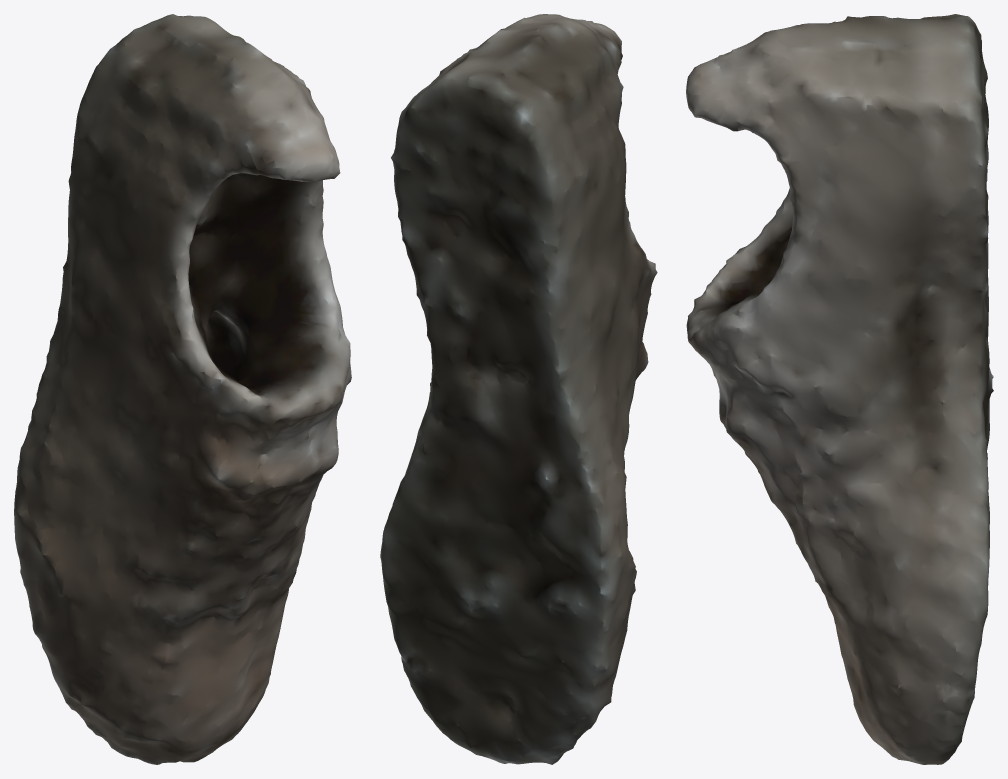
The model's file is shoe3.glb.
3 renders of one model, left to right at view 1: azimuth 30°, elevation 25°; view 2: azimuth 150°, elevation 25°; view 3: azimuth 270°, elevation 25°, orthographic. The views are drawn at different scales.
Bounding box in the file's own units: 0.352 × 0.9935 × 0.3745.
